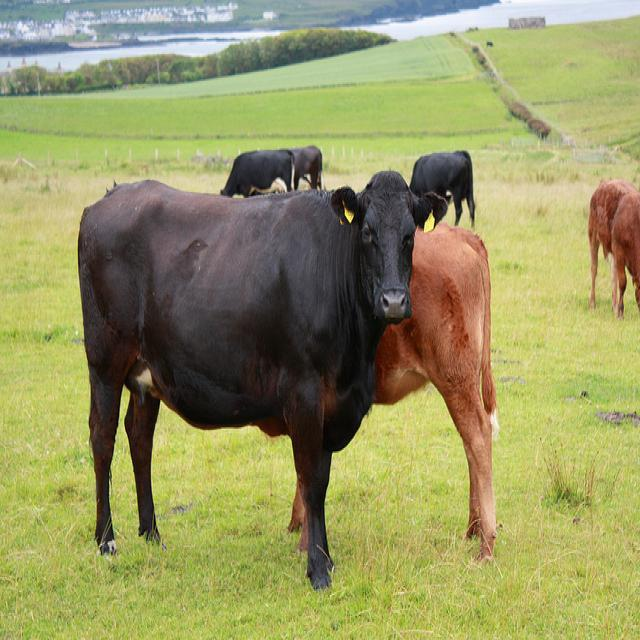cow: (73, 165, 444, 592), (372, 222, 500, 571), (586, 175, 639, 315), (405, 147, 478, 228), (219, 147, 297, 196), (290, 144, 324, 189), (485, 41, 492, 44)
